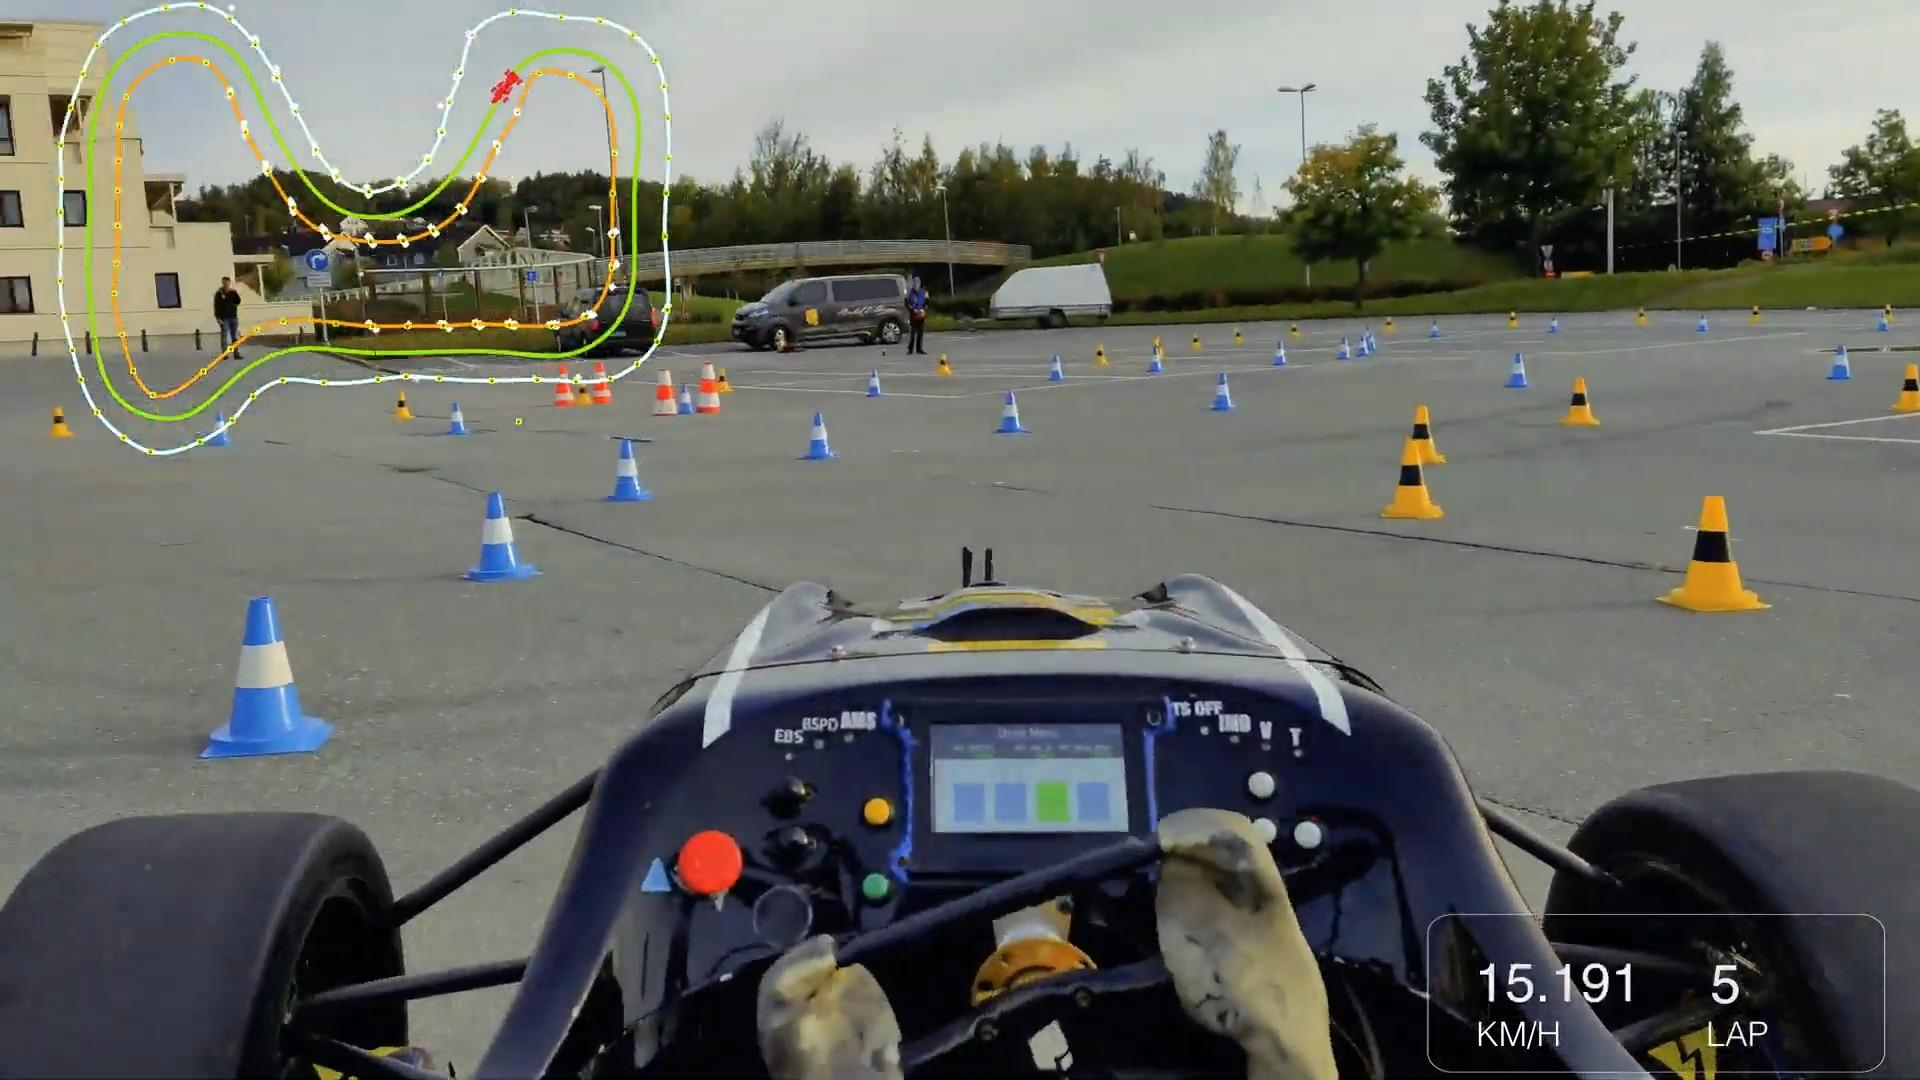blue_cone: (202, 588, 339, 760), (463, 484, 542, 583), (604, 438, 658, 506), (802, 409, 837, 463), (994, 388, 1029, 435), (1828, 332, 1857, 388), (1502, 349, 1532, 396), (200, 402, 229, 444), (444, 397, 471, 443), (1209, 371, 1236, 414), (862, 364, 885, 404), (674, 381, 695, 417), (1044, 353, 1065, 385), (1146, 343, 1163, 377), (1271, 335, 1288, 368), (1335, 331, 1352, 364), (676, 382, 694, 415), (1695, 310, 1712, 338), (1427, 316, 1443, 342), (1356, 332, 1367, 357), (1365, 330, 1375, 356), (1548, 315, 1559, 338)
large_orange_cone: (650, 365, 676, 418), (698, 361, 721, 415), (591, 360, 613, 406), (551, 363, 574, 407)
yellow_cone: (1655, 492, 1775, 618), (1382, 439, 1445, 526), (847, 657, 993, 676), (1403, 402, 1449, 464), (1561, 375, 1600, 427), (1887, 361, 1920, 415), (42, 404, 74, 440), (572, 375, 595, 411), (392, 388, 411, 419), (716, 364, 733, 398), (935, 349, 953, 381), (1091, 340, 1108, 371), (1149, 335, 1167, 361), (1230, 327, 1245, 349), (1634, 306, 1648, 328), (1287, 319, 1300, 343), (1382, 314, 1395, 336), (1506, 309, 1519, 330), (1189, 330, 1201, 349)
